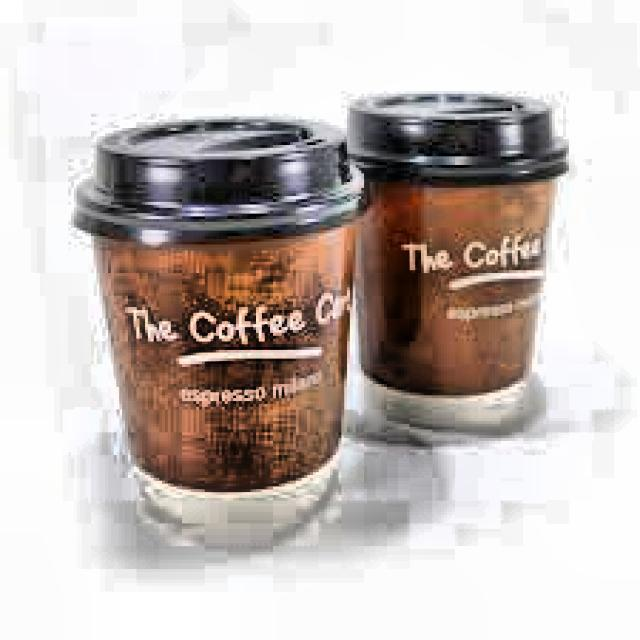Cup: (68, 150, 364, 548), (326, 129, 561, 437)
